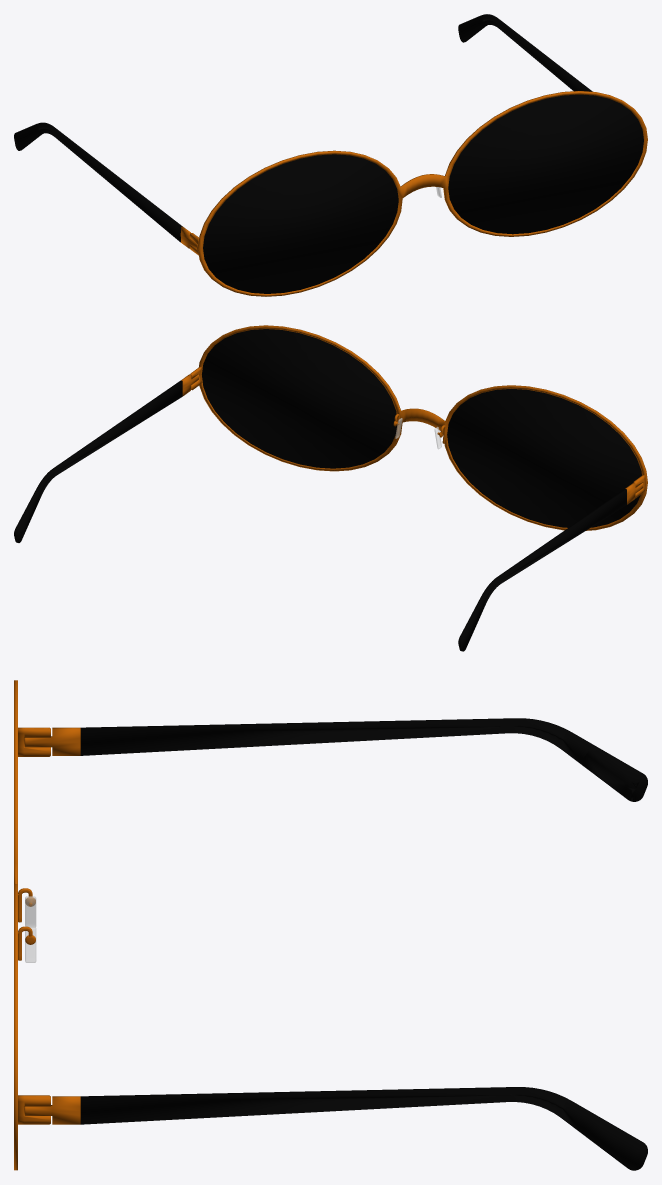
File: glasses.glb
The picture shows the model from 3 angles, top to bottom: view 1: azimuth 30°, elevation 25°; view 2: azimuth 150°, elevation 25°; view 3: azimuth 270°, elevation 25°; orthographic projection. The views are drawn at different scales.
Parts seen in each view (by area): view 1: Object_4, Object_5, Object_3; view 2: Object_4, Object_5, Object_3; view 3: Object_3, Object_5.
Part boxes in pixels (<box>): Object_4: <box>203,94,643,293</box>; Object_5: <box>180,91,647,296</box>; Object_3: <box>14,14,592,242</box>; Object_4: <box>202,329,641,527</box>; Object_5: <box>181,325,647,530</box>; Object_3: <box>14,380,626,651</box>; Object_3: <box>80,718,647,1170</box>; Object_5: <box>14,680,80,1170</box>.
Bounding box in the file's own units: 9.03 × 2.62 × 6.49.
